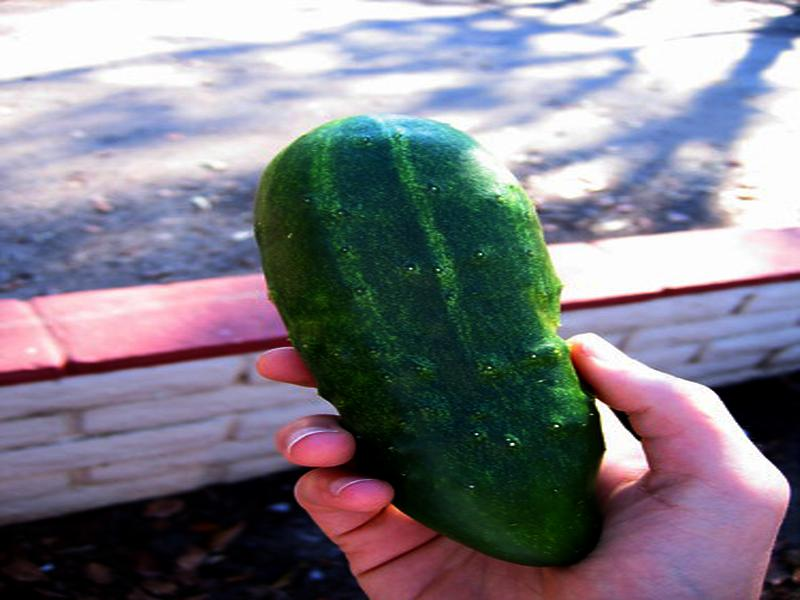Cucumber: (251, 118, 601, 565)
